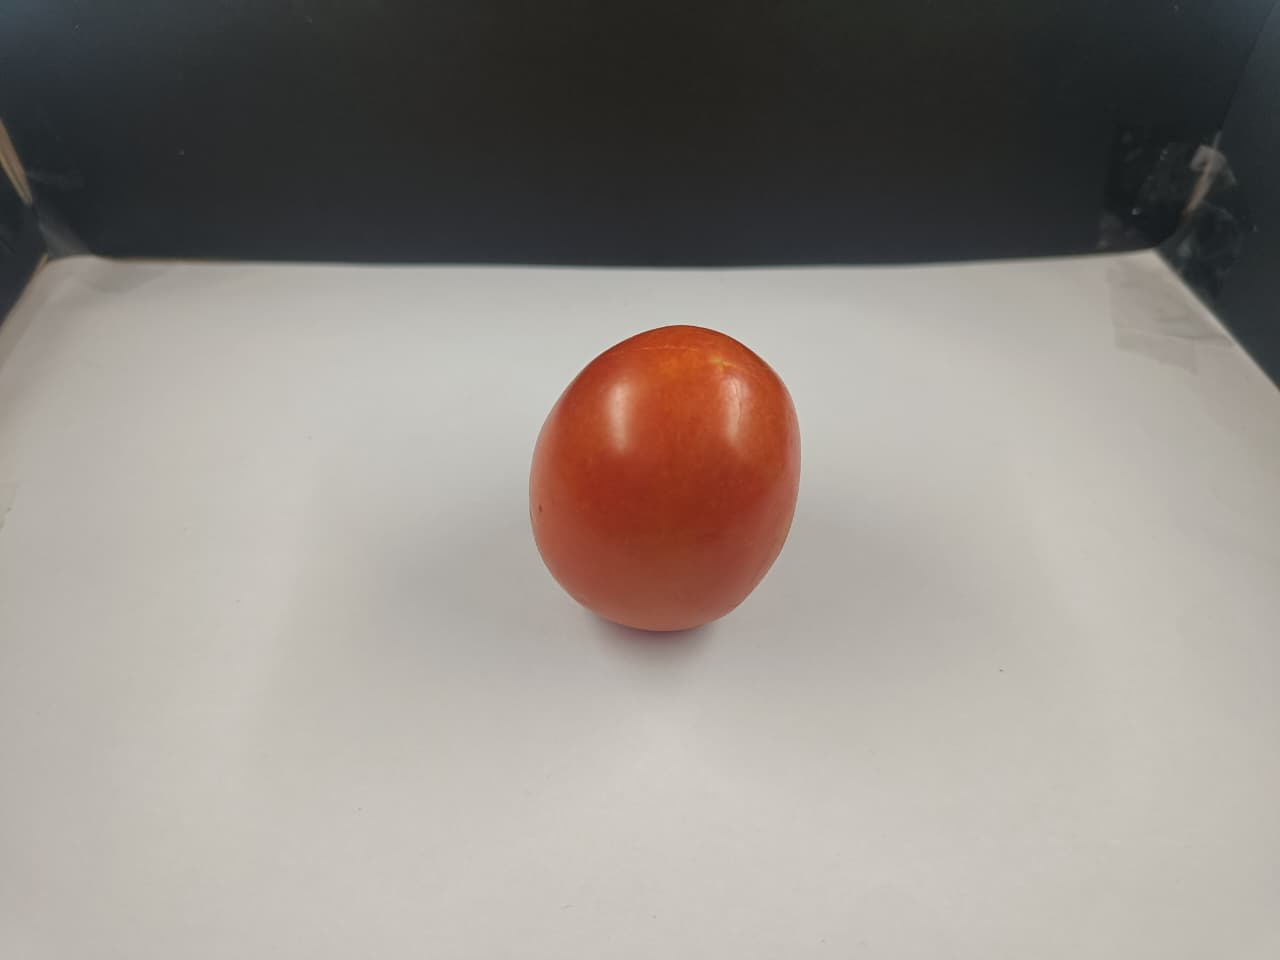ripe: (495, 343, 826, 655)
